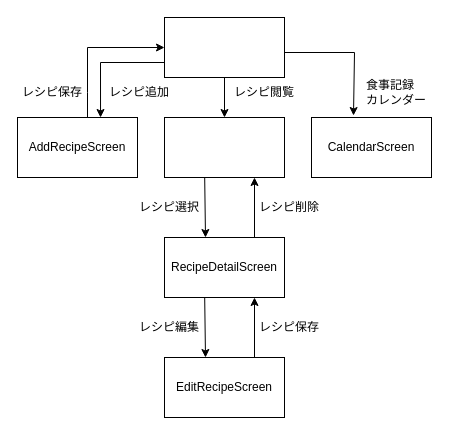
Some shapes in this 449 by 435 pixel diagram are drawn without their labels. The shapes that lost their labels are listed below. From the top down, each one's centre as x and y in pixels, then its label:
point (224, 47): HomeScreen
point (224, 147): RecipeViewScreen
